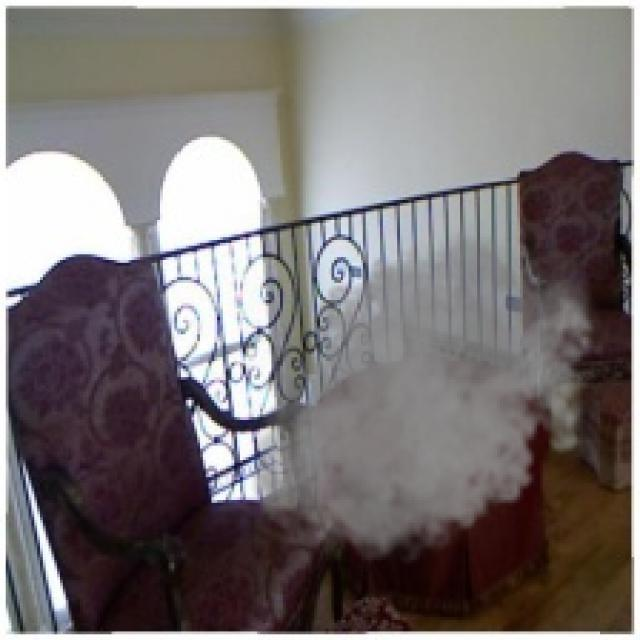Smoke: (245, 208, 606, 572)
